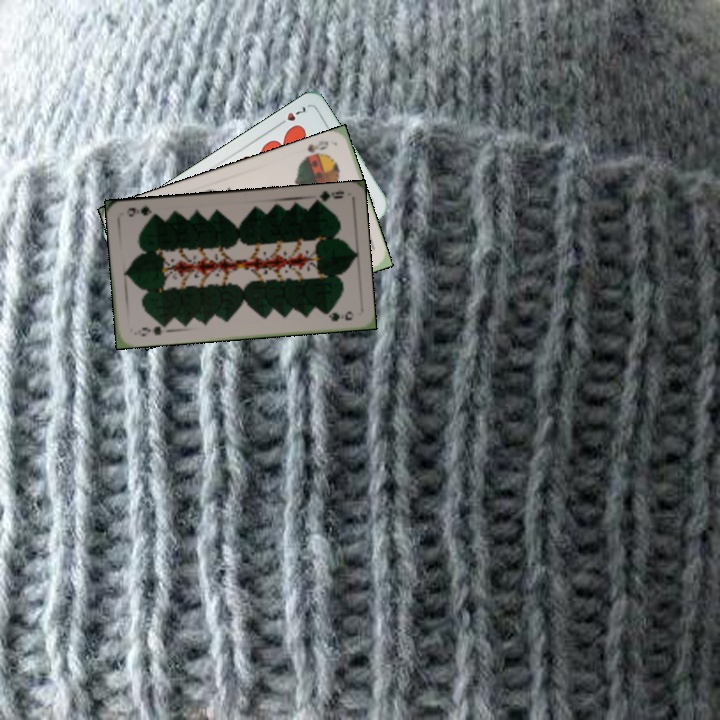G9: (309, 187, 346, 207), (133, 320, 170, 339)
H7: (274, 102, 309, 129)
SO: (297, 136, 331, 164)
